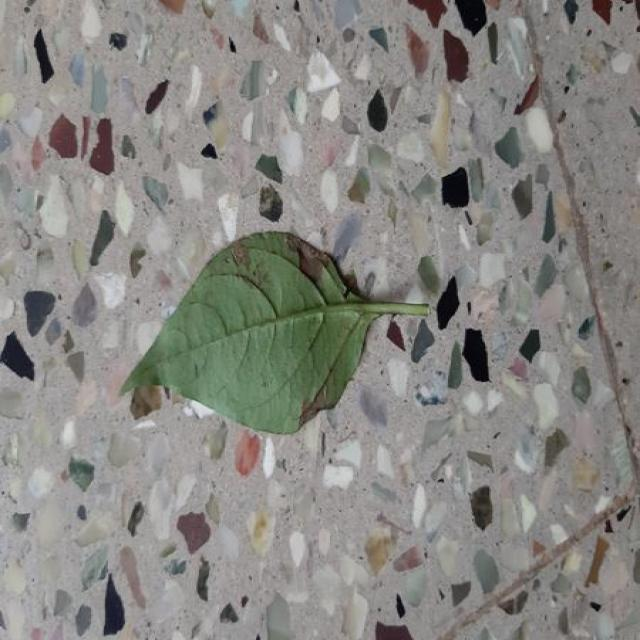chilly: (122, 231, 430, 433)
